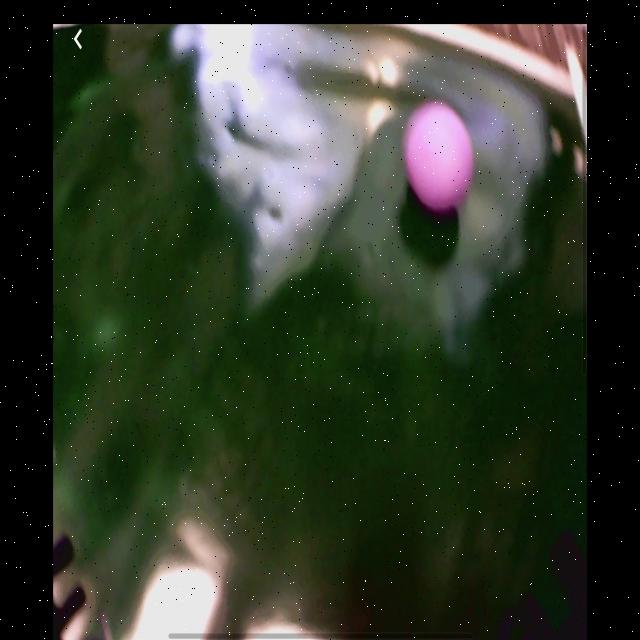ball: (404, 100, 476, 214)
